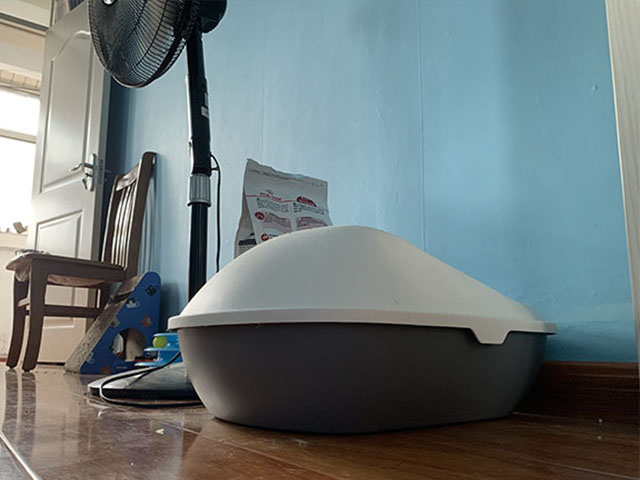stool: (4, 149, 154, 370)
wire: (98, 350, 184, 390), (98, 392, 206, 409)
